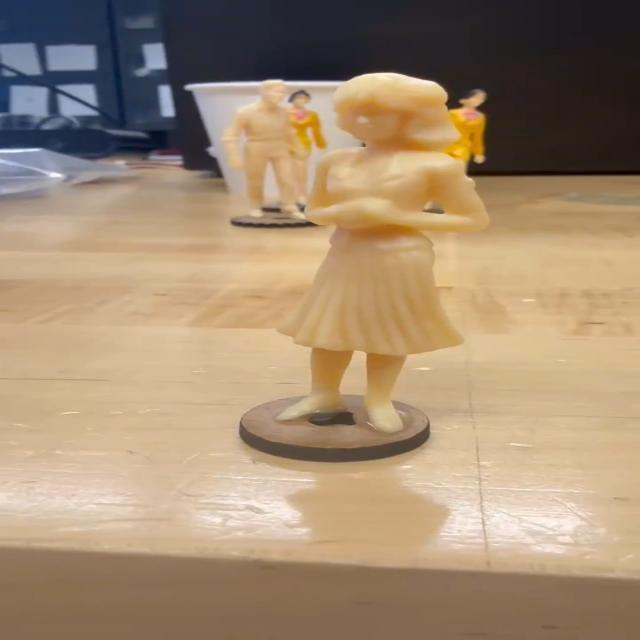Unauthorized: (258, 67, 468, 480)
